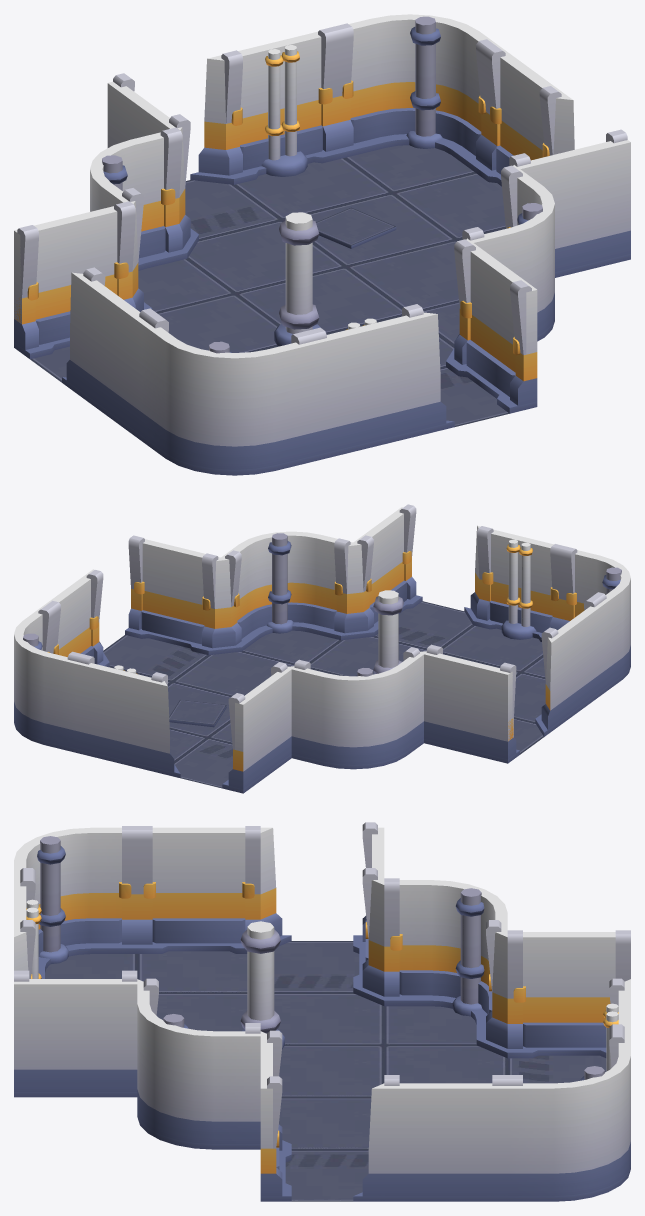
The model's file is room-large-variation.glb.
3 views of the same model, one above another, from view 1: azimuth 30°, elevation 25°; view 2: azimuth 150°, elevation 25°; view 3: azimuth 270°, elevation 25° (orthographic). The views are drawn at different scales.
Visible parts, largest first — view 1: room-large-variation; view 2: room-large-variation; view 3: room-large-variation.
Part boxes in pixels (left/top/right/bottom): room-large-variation: left=14, top=14, right=630, bottom=475; room-large-variation: left=14, top=504, right=630, bottom=793; room-large-variation: left=14, top=822, right=630, bottom=1201.
Size of the model in its own units: 20 by 4.25 by 20.
1 material, 1 textured.
